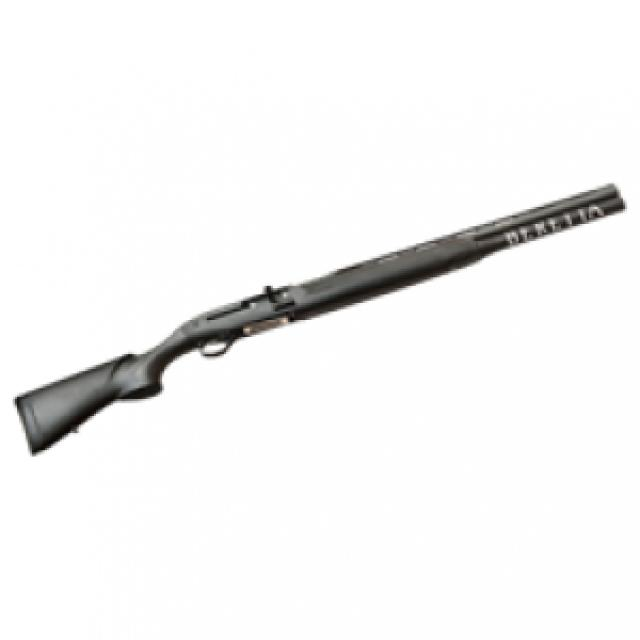rifle: (15, 171, 631, 469)
